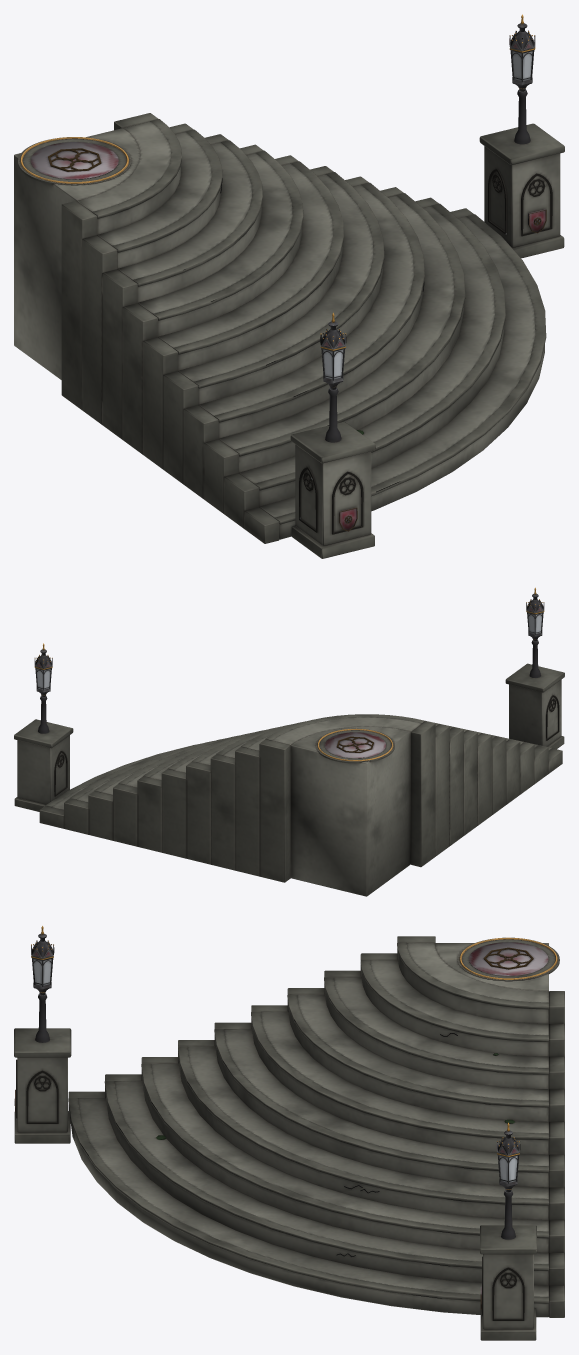
File: EntranceQuarterRound.fbx
3 views of the same model, one above another, from view 1: azimuth 30°, elevation 25°; view 2: azimuth 150°, elevation 25°; view 3: azimuth 270°, elevation 25° (orthographic). The views are drawn at different scales.
Visible parts, largest first — view 1: EntranceQuarterRound_Main, EntranceQuarterRound_Noses, EntranceQuarterRound_Newels, EntranceQuarterRound_Glass; view 2: EntranceQuarterRound_Main, EntranceQuarterRound_Newels, EntranceQuarterRound_Noses, EntranceQuarterRound_Glass; view 3: EntranceQuarterRound_Main, EntranceQuarterRound_Noses, EntranceQuarterRound_Newels, EntranceQuarterRound_Glass.
Boxes of the visible parts, x1,y1,x2,y2 form: EntranceQuarterRound_Main: [14, 113, 544, 543]; EntranceQuarterRound_Noses: [92, 119, 546, 524]; EntranceQuarterRound_Newels: [290, 14, 564, 558]; EntranceQuarterRound_Glass: [323, 51, 532, 379]; EntranceQuarterRound_Main: [39, 717, 562, 896]; EntranceQuarterRound_Newels: [14, 587, 564, 811]; EntranceQuarterRound_Noses: [45, 714, 552, 806]; EntranceQuarterRound_Glass: [36, 613, 542, 689]; EntranceQuarterRound_Main: [68, 936, 564, 1317]; EntranceQuarterRound_Noses: [68, 942, 548, 1303]; EntranceQuarterRound_Newels: [14, 926, 536, 1340]; EntranceQuarterRound_Glass: [33, 959, 517, 1182].
Bounding box in the file's own units: 1735 × 719 × 1735.
